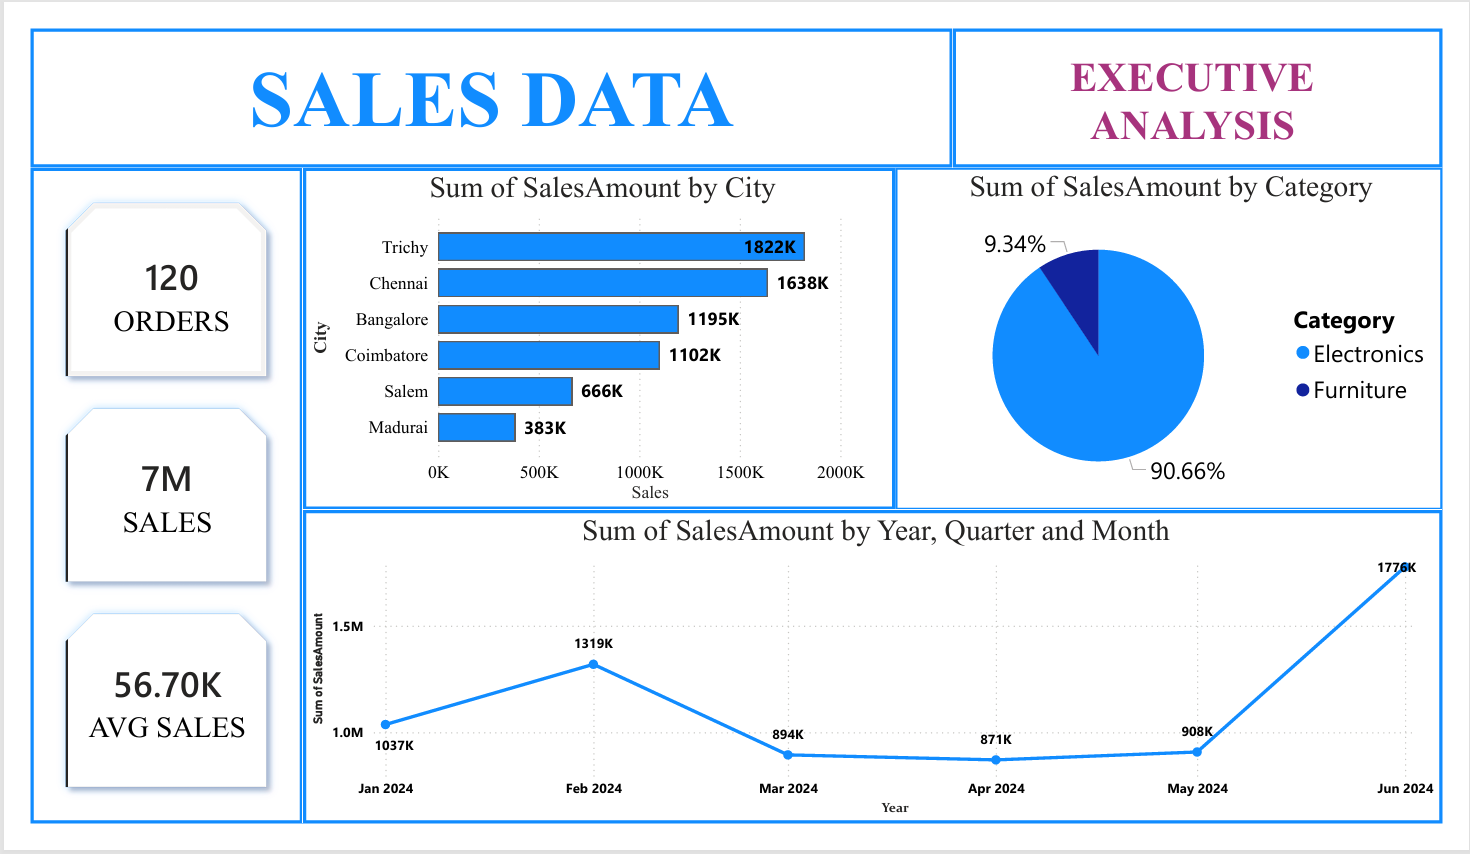

Layout of this report page (visuals, bound fields, positions):
{"tool":"powerbi","page":{"name":"Executive Chart","canvas":[1280,720],"ordinal":0},"visuals":[{"type":"cardVisual","fields":{"Data":["Sales_Data.Total orders","Sales_Data.Total Sales","Sales_Data.AVG Sales"]},"box":[0,126.2,247,594.2],"z":0},{"type":"clusteredBarChart","fields":{"Category":["Sales_Data.City"],"Y":["Sum(Sales_Data.SalesAmount)"]},"box":[247,126.2,536.5,310.1],"z":1000},{"type":"pieChart","fields":{"Category":["Sales_Data.Category"],"Y":["Sum(Sales_Data.SalesAmount)"]},"box":[783.5,126.2,496.7,310.1],"z":2000},{"type":"lineChart","fields":{"Category":["Sales_Data.OrderDate.Variation.Date Hierarchy.Year","Sales_Data.OrderDate.Variation.Date Hierarchy.Quarter","Sales_Data.OrderDate.Variation.Date Hierarchy.Month","Sales_Data.OrderDate.Variation.Date Hierarchy.Day"],"Y":["Sum(Sales_Data.SalesAmount)"]},"box":[247,436.4,1033.3,284],"z":3000},{"type":"textbox","box":[0,0,835.7,126.2],"z":4000},{"type":"textbox","box":[835.7,0,444.6,126.2],"z":5000}]}

Visuals, with their boxes in screenshot pixels (x1, y1, x2, y2):
cardVisual - Sales_Data.Total orders x Sales_Data.Total Sales: 31,165,300,814
clusteredBarChart - Sales_Data.City x Sum(Sales_Data.SalesAmount): 300,165,887,503
pieChart - Sales_Data.Category x Sum(Sales_Data.SalesAmount): 887,165,1429,503
lineChart - Sales_Data.OrderDate.Variation.Date Hierarchy.Year x Sales_Data.OrderDate.Variation.Date Hierarchy.Quarter: 300,504,1429,814
textbox: 31,27,944,165
textbox: 944,27,1429,165
